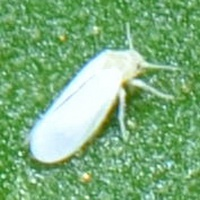insect: (29, 49, 158, 164)
